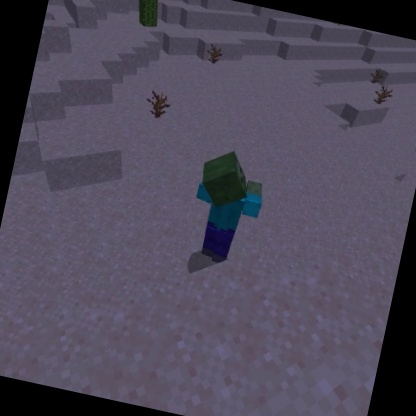zombie: (179, 142, 275, 274)
